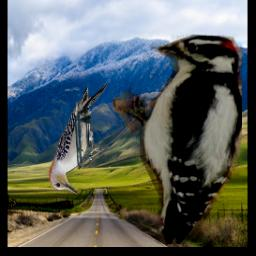Woodpecker: (114, 35, 243, 244), (47, 82, 107, 196)
